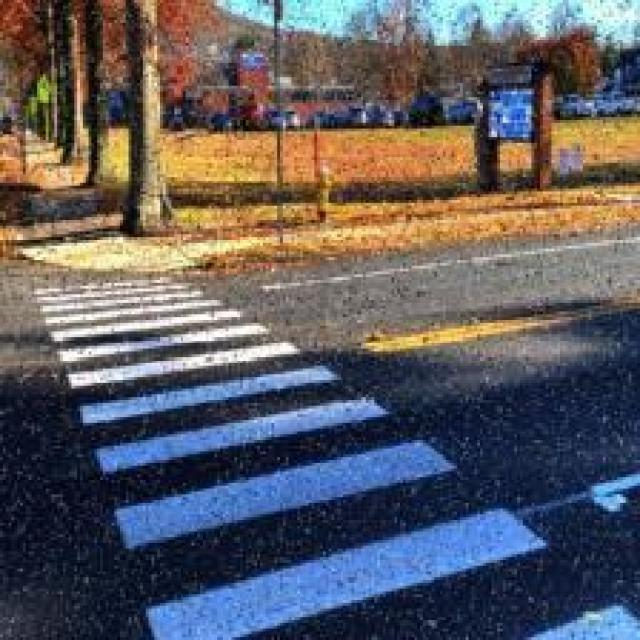crosswalk: (31, 271, 640, 640)
